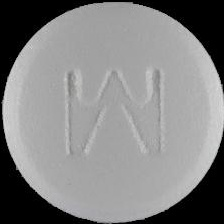0378-3131: (0, 0, 224, 224)
